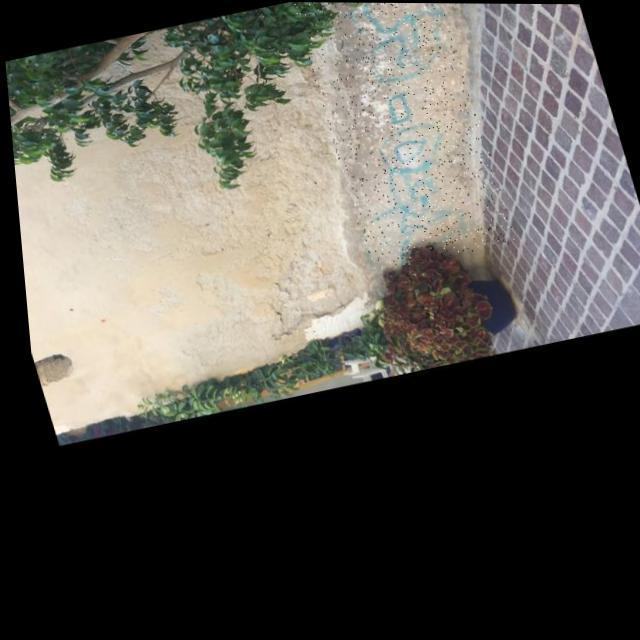-: (290, 2, 513, 272)
